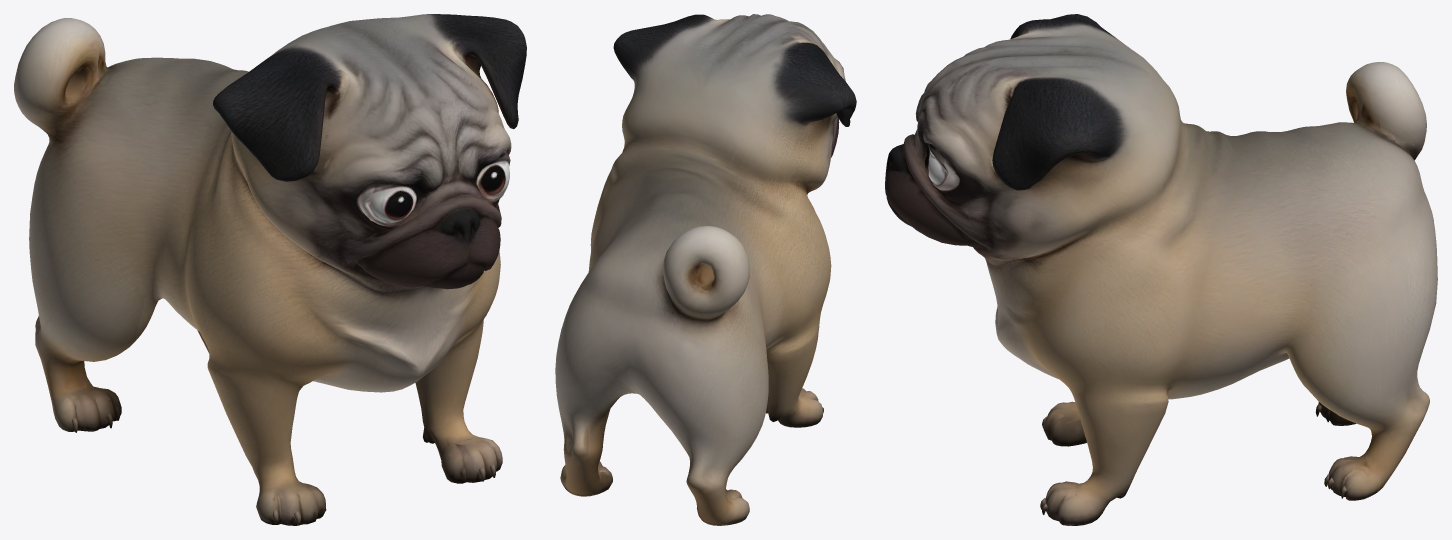
Rendered from pug_model.glb.
The picture shows the model from 3 angles, left to right: view 1: azimuth 30°, elevation 25°; view 2: azimuth 150°, elevation 25°; view 3: azimuth 270°, elevation 25°; orthographic projection. The views are drawn at different scales.
Visible parts, largest first — view 1: texture_pbr_20250901; view 2: texture_pbr_20250901; view 3: texture_pbr_20250901.
Boxes of the visible parts, x1=… form: texture_pbr_20250901: x1=14, y1=14, x2=526, y2=525; texture_pbr_20250901: x1=555, y1=14, x2=856, y2=525; texture_pbr_20250901: x1=885, y1=14, x2=1437, y2=525.
Bounding box in the file's own units: 1.19 × 1.6 × 1.9.
1 material, 1 textured.
